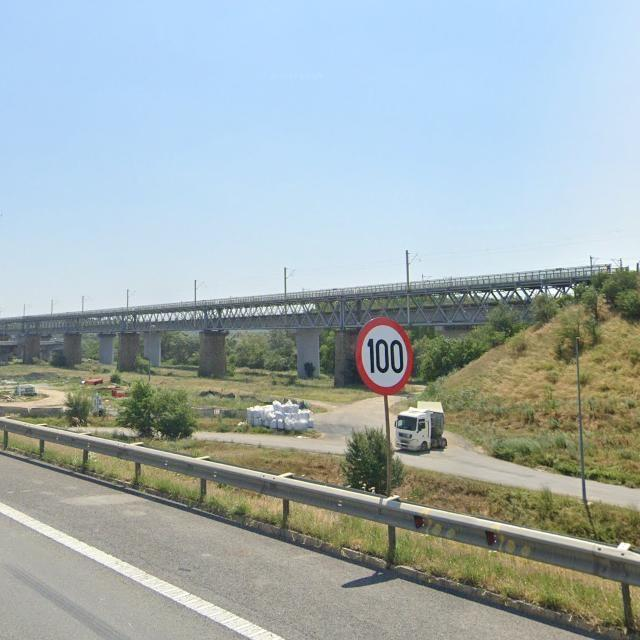forb_speed_over_100: (355, 317, 413, 396)
